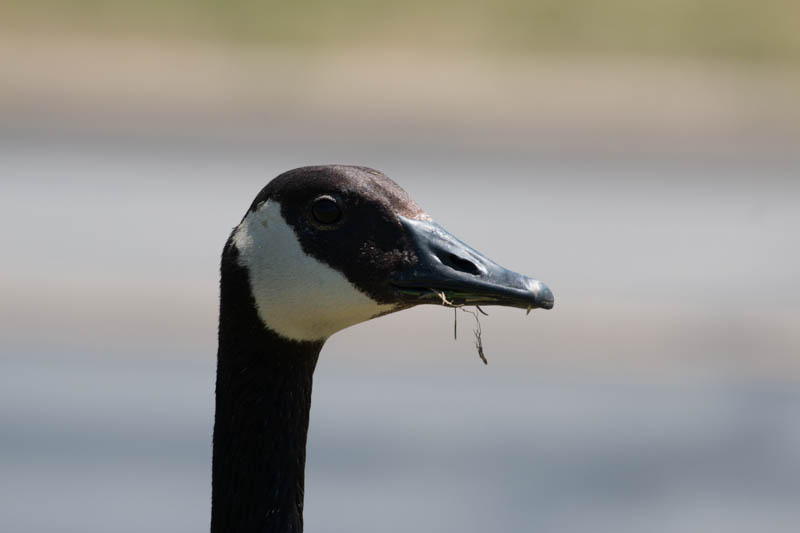goose-head: (221, 164, 555, 341)
